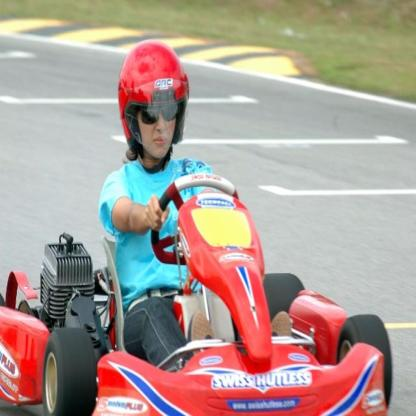Helmet: (117, 40, 190, 168)
